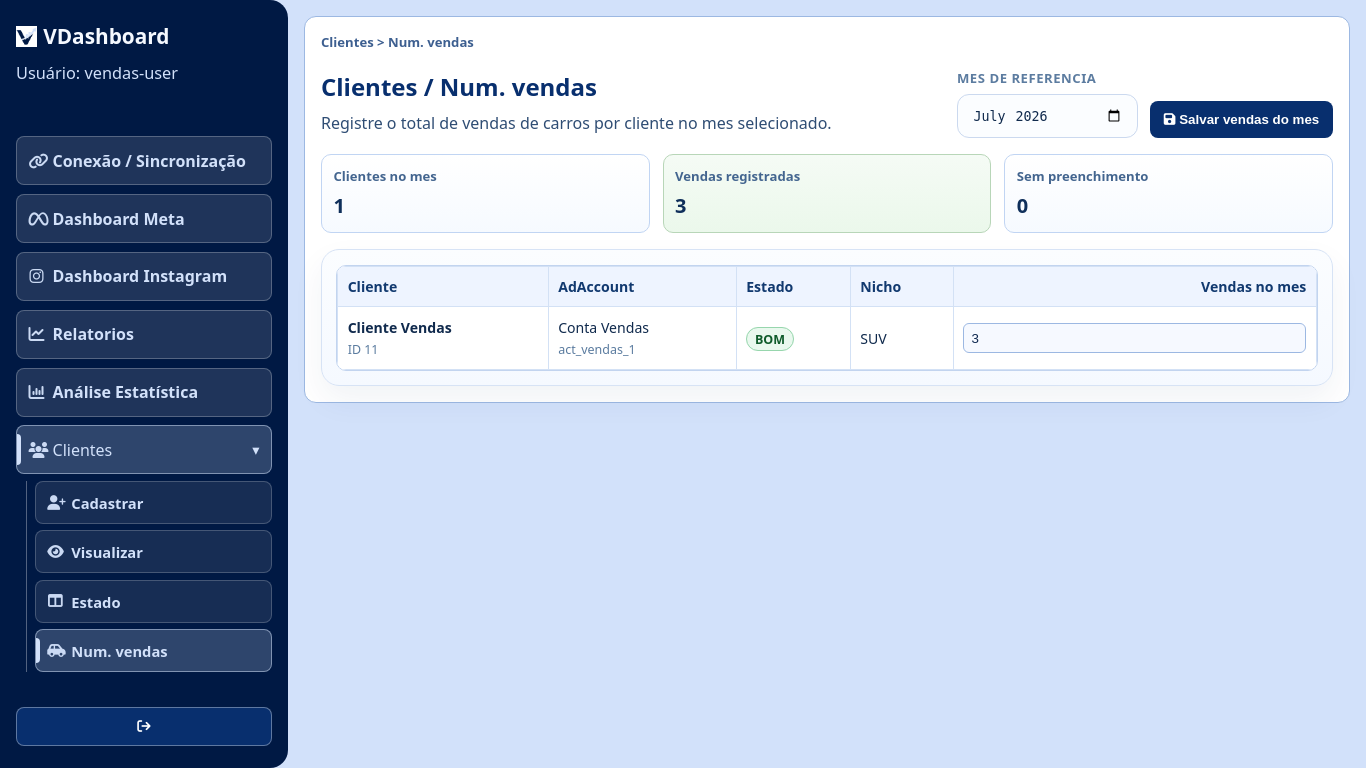
Test case: App frontend flows › loads and saves clientes num vendas page by month
Expected: the heading "Clientes / Num. vendas" is shown, top-left (321, 70), bottom-right (597, 103)
Replace the text in the number field named "Numero de vendas de Cliente Vendas" with "5" at (1135, 338), box top-left (963, 324), bottom-right (1306, 353)
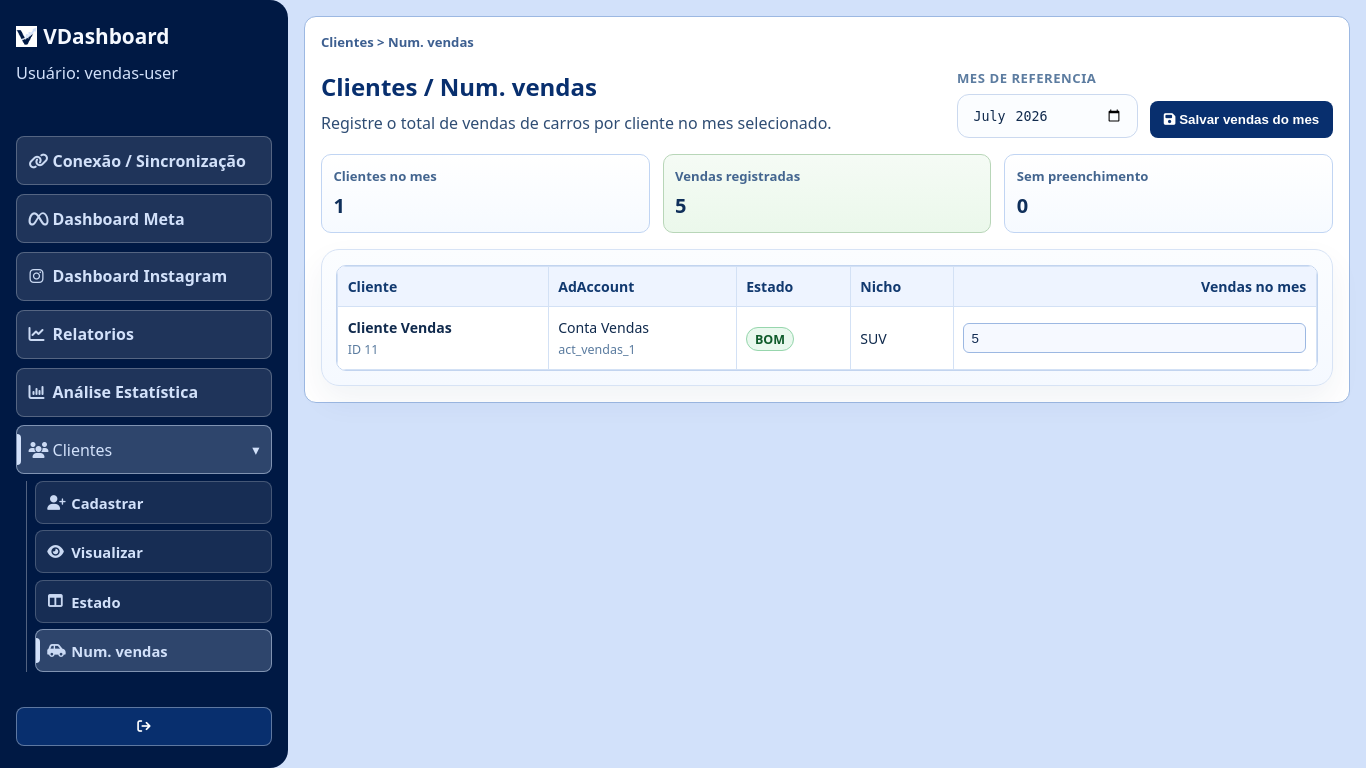
Click the button "Salvar vendas do mes".
click(1242, 120)  # box top-left (1150, 102), bottom-right (1333, 138)
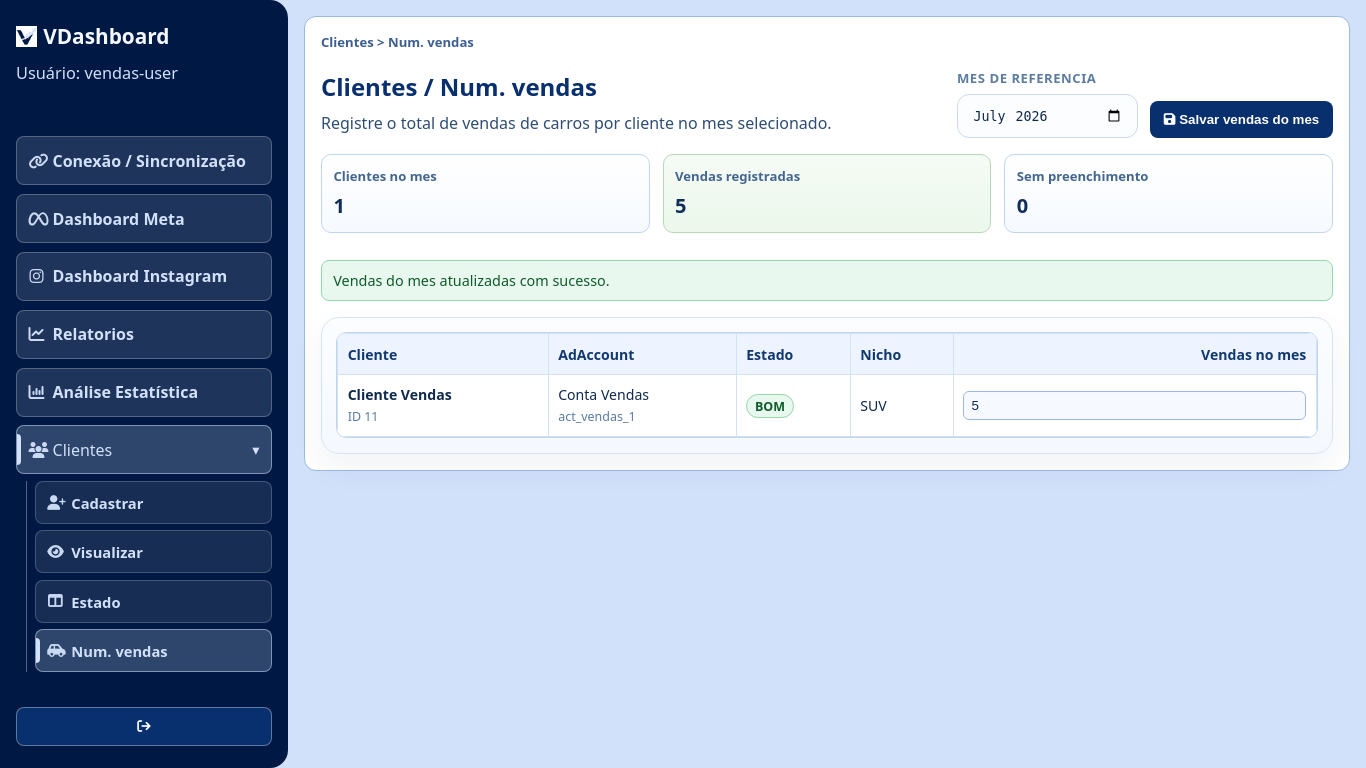
Result: the text "Vendas do mes atualizadas com sucesso." is shown at top-left (321, 260), bottom-right (1333, 301)
